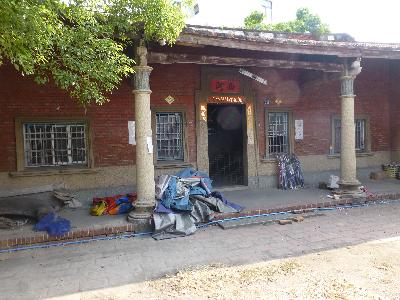plastic_bag: (151, 164, 246, 240), (90, 189, 137, 218)
